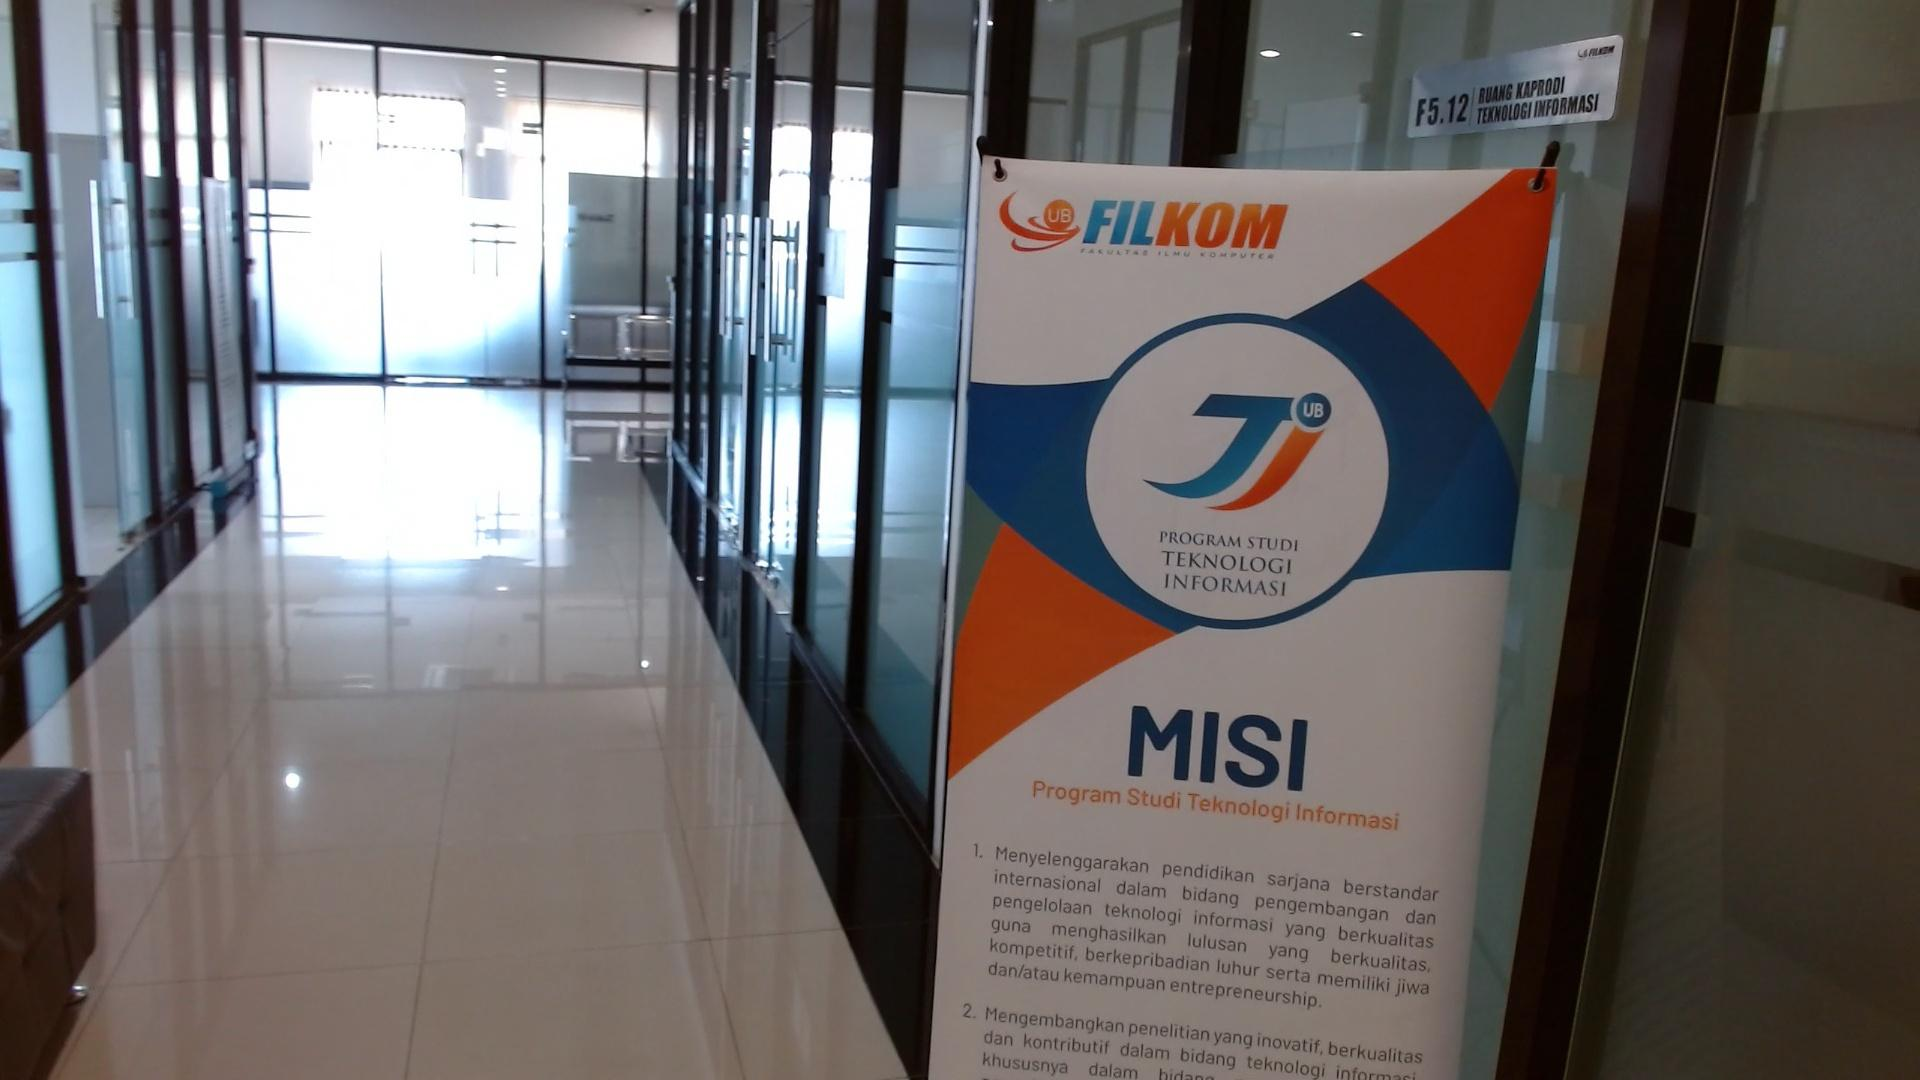plate: (1406, 34, 1625, 141)
